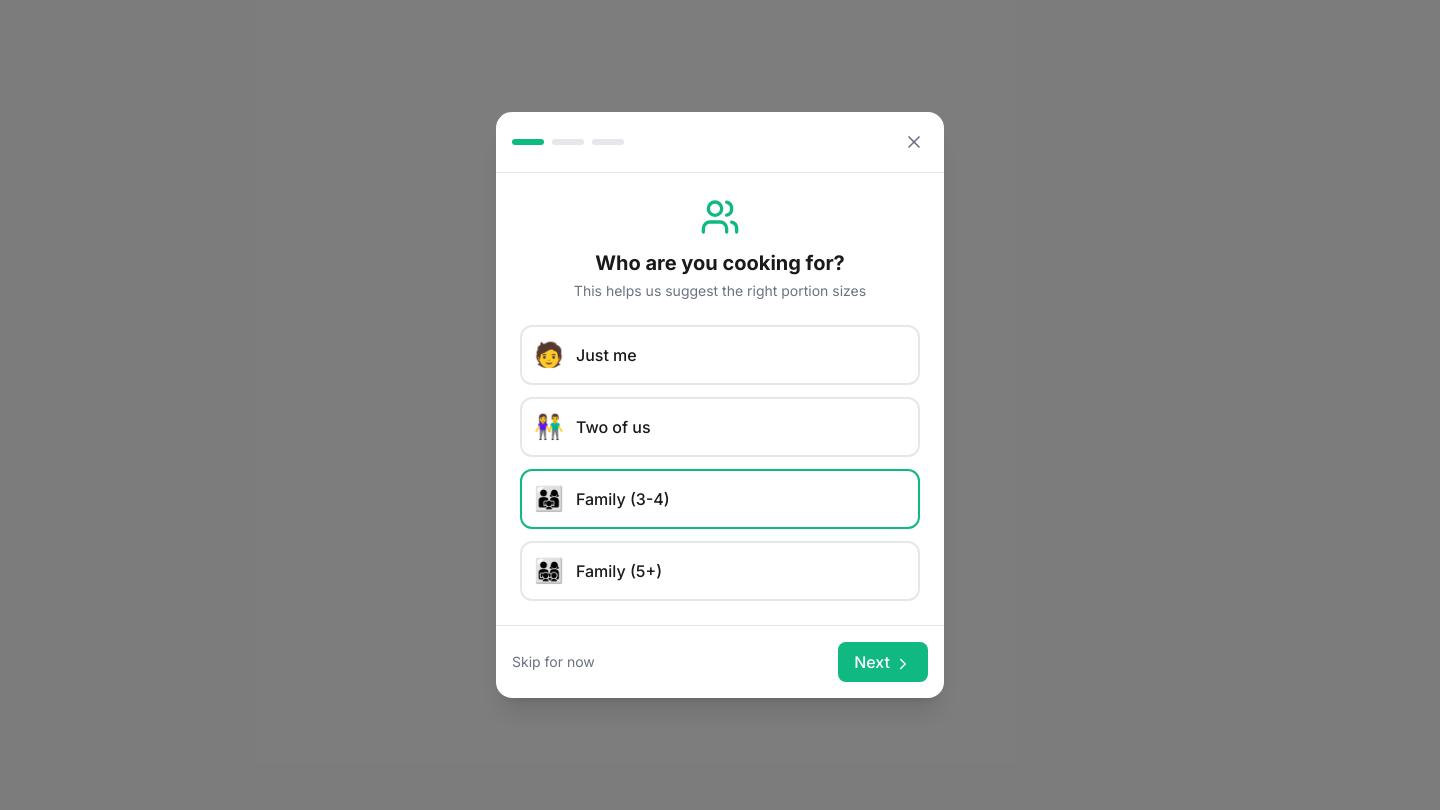
Test: OnboardingWizard › Back button returns to previous step
The image size is (1440, 810).
Click the button "Next" at (883, 662), box 838,642 -> 928,682
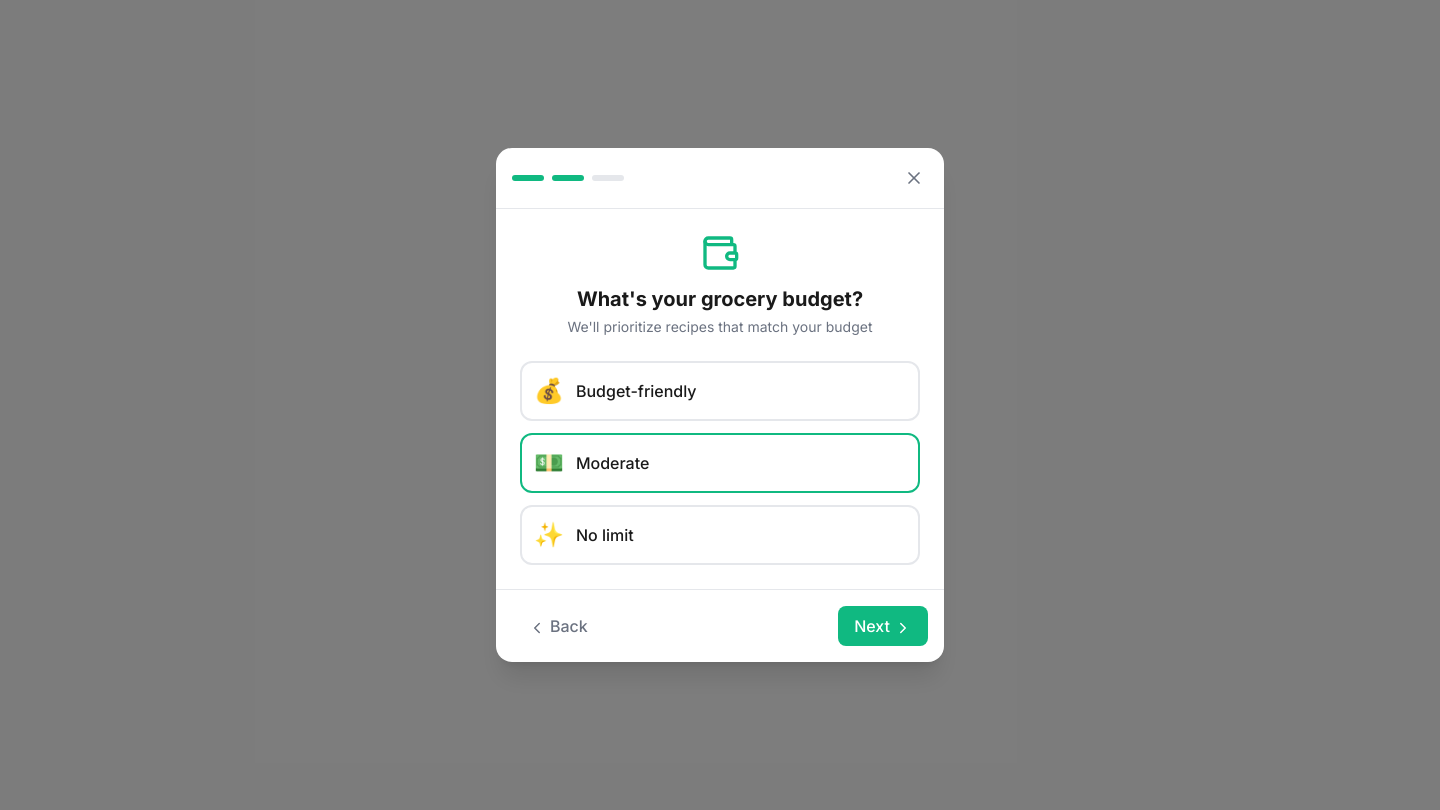
Now the heading "What's your grocery budget?" is shown, box 577,287 -> 863,311
Click the button "Back" at (558, 626), box 512,606 -> 604,646
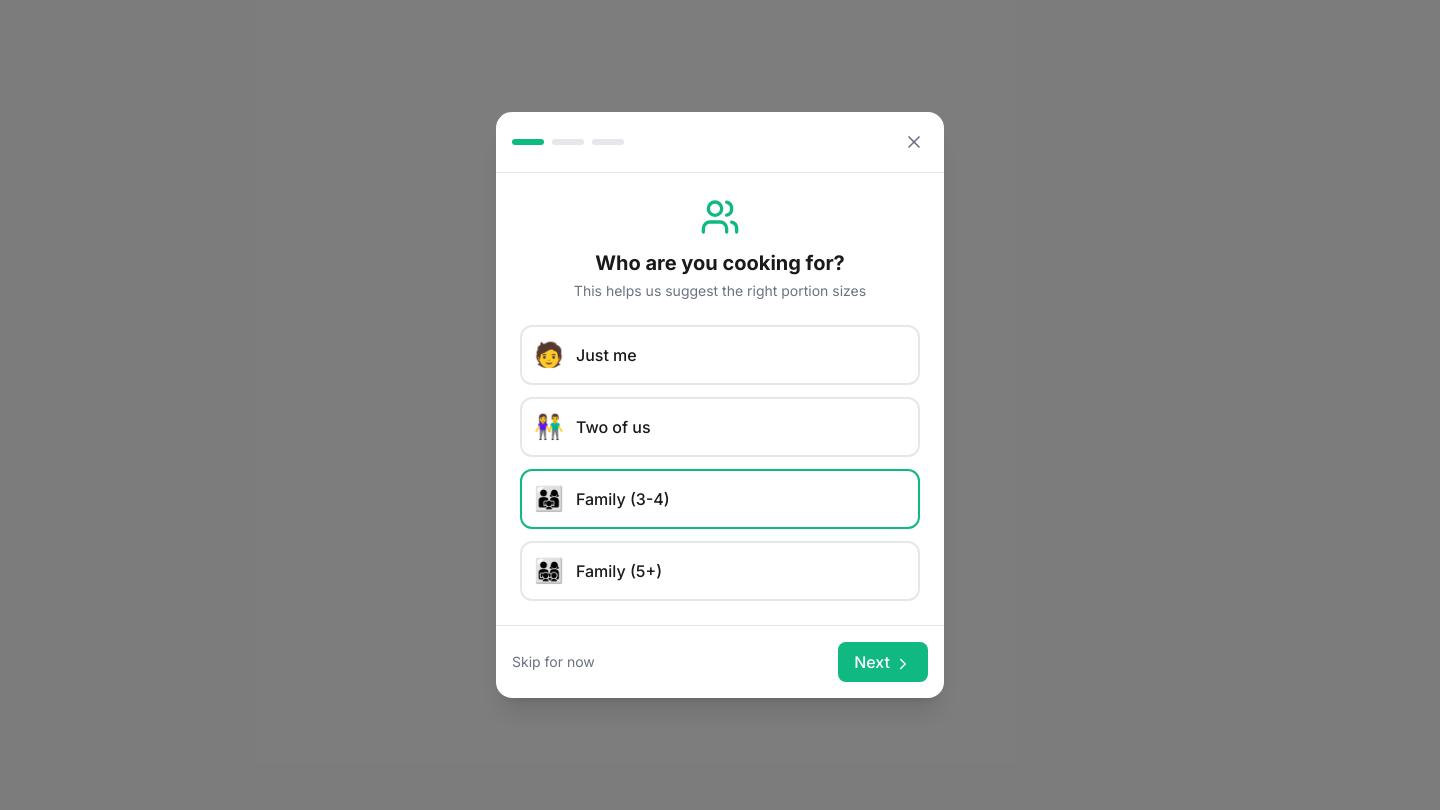
Now the heading "Who are you cooking for?" is shown, box 595,251 -> 845,275
